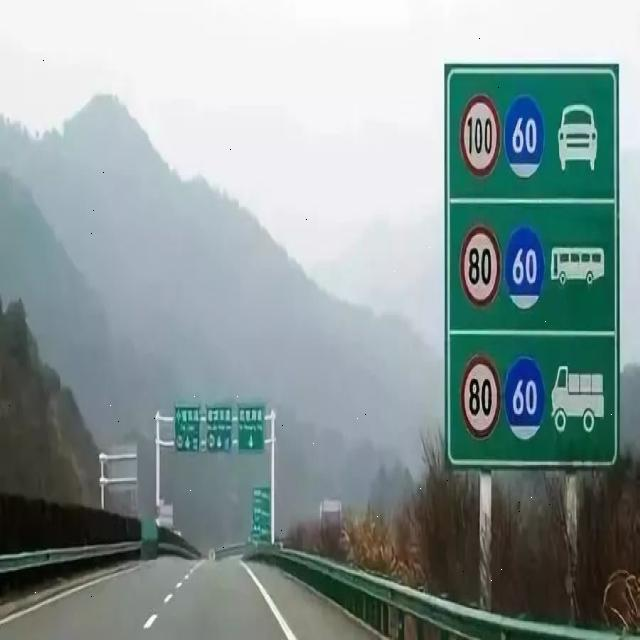speed limit 100: (459, 91, 503, 179)
speed limit 60: (503, 357, 547, 439), (504, 95, 546, 180), (505, 227, 545, 311)
speed limit 80: (459, 222, 503, 309), (459, 355, 502, 440)
